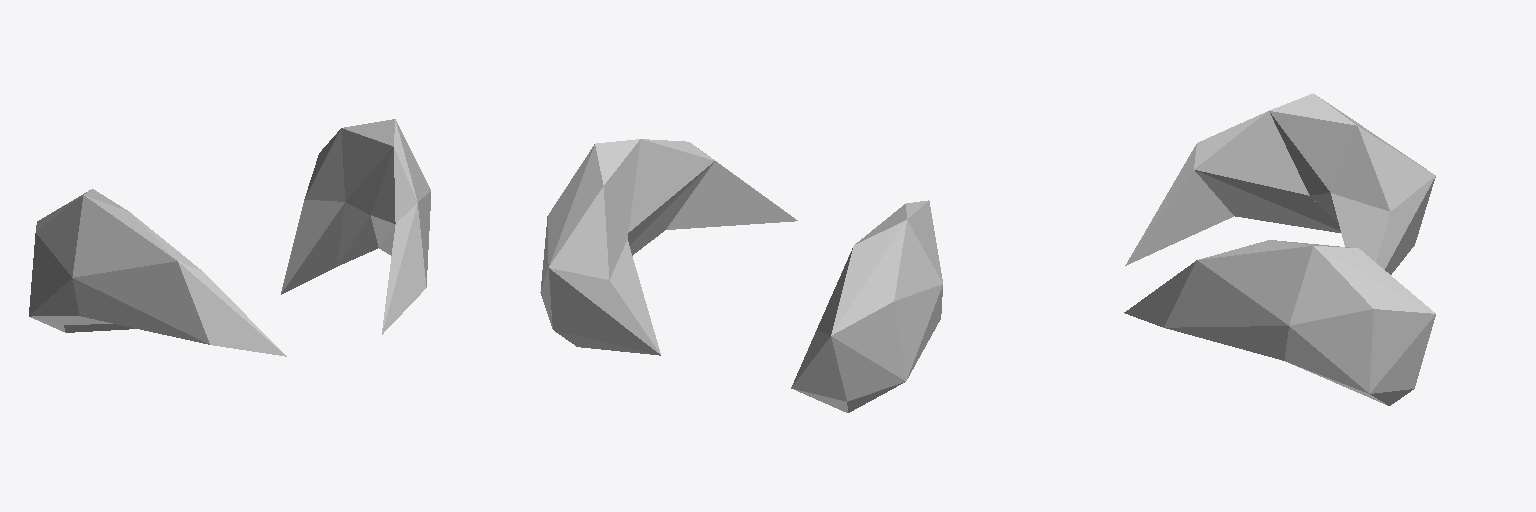
Rendered from Nostril_Wing.obj.
The picture shows the model from 3 angles: view 1: azimuth 30°, elevation 25°; view 2: azimuth 150°, elevation 25°; view 3: azimuth 270°, elevation 25°; orthographic projection.
Visible parts, largest first — view 1: Musculos_Cabeza_1:Nostril_Wing1; view 2: Musculos_Cabeza_1:Nostril_Wing1; view 3: Musculos_Cabeza_1:Nostril_Wing1.
Part boxes in pixels (x1,y1,x2,y2): Musculos_Cabeza_1:Nostril_Wing1: (29,119,430,356); Musculos_Cabeza_1:Nostril_Wing1: (540,139,942,412); Musculos_Cabeza_1:Nostril_Wing1: (1124,93,1435,405).
Size of the model in its own units: 0.1421 by 0.0644 by 0.1053.